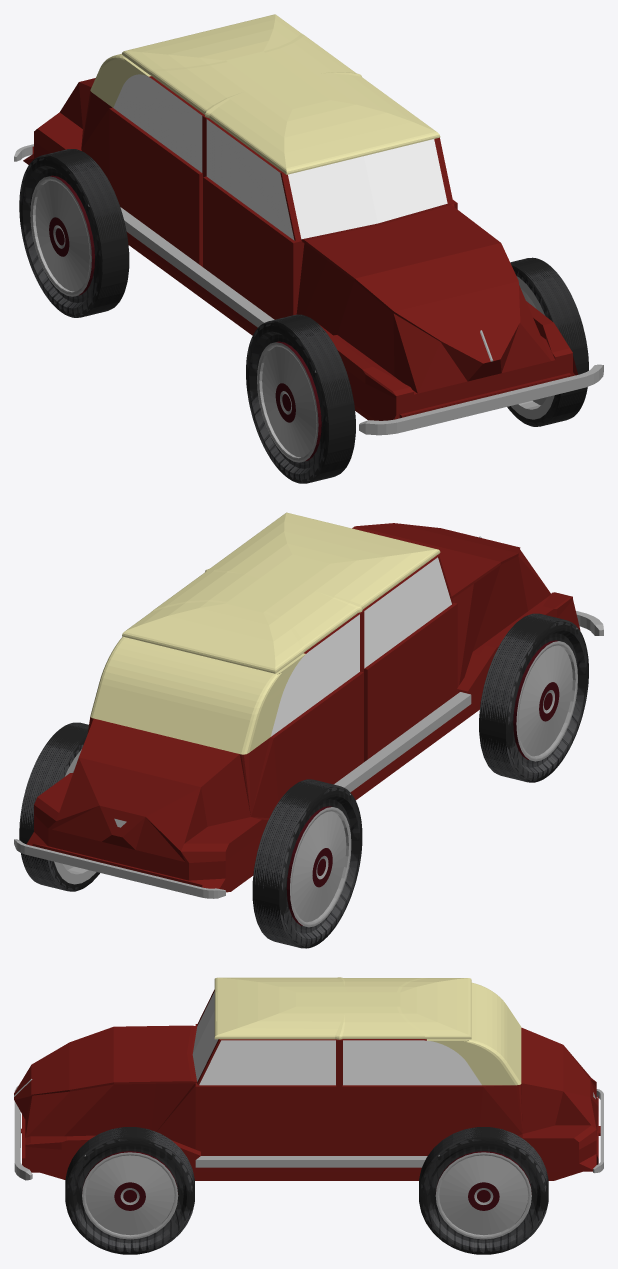
The model's file is beetlecar.glb.
3 views of the same model, one above another, from view 1: azimuth 30°, elevation 25°; view 2: azimuth 150°, elevation 25°; view 3: azimuth 270°, elevation 25° (orthographic). The views are drawn at different scales.
Visible parts, largest first — view 1: chassis, rear_right_wheel, front_right_wheel, front_left_wheel; view 2: chassis, rear_right_wheel, front_right_wheel, rear_left_wheel; view 3: chassis, rear_left_wheel, front_left_wheel.
Boxes of the visible parts, x1,y1,x2,y2 form: chassis: [14, 14, 603, 435]; rear_right_wheel: [19, 149, 129, 317]; front_right_wheel: [246, 314, 355, 483]; front_left_wheel: [507, 257, 588, 426]; chassis: [14, 512, 603, 898]; rear_right_wheel: [252, 779, 362, 948]; front_right_wheel: [479, 613, 588, 782]; rear_left_wheel: [19, 722, 99, 891]; chassis: [14, 977, 603, 1180]; rear_left_wheel: [419, 1127, 548, 1254]; front_left_wheel: [65, 1127, 194, 1254].
Bounding box in the file's own units: 1.36 × 1.3 × 3.38.
10 materials, 2 textured.
